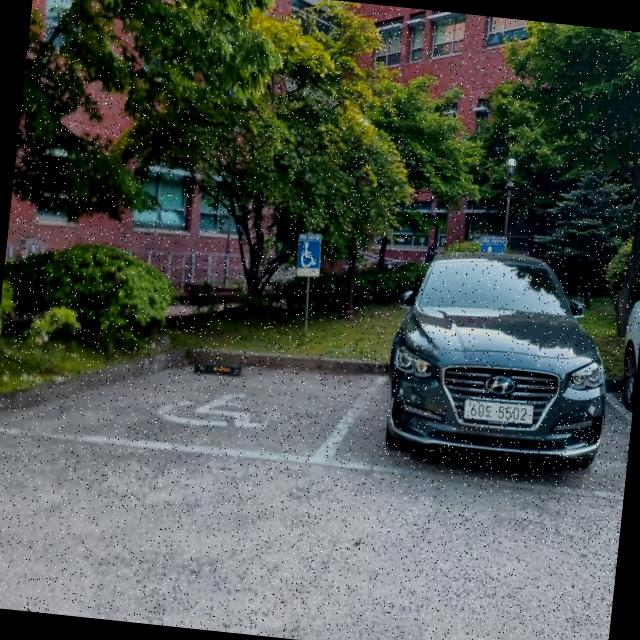car: (368, 224, 634, 486)
free: (0, 323, 369, 468)
